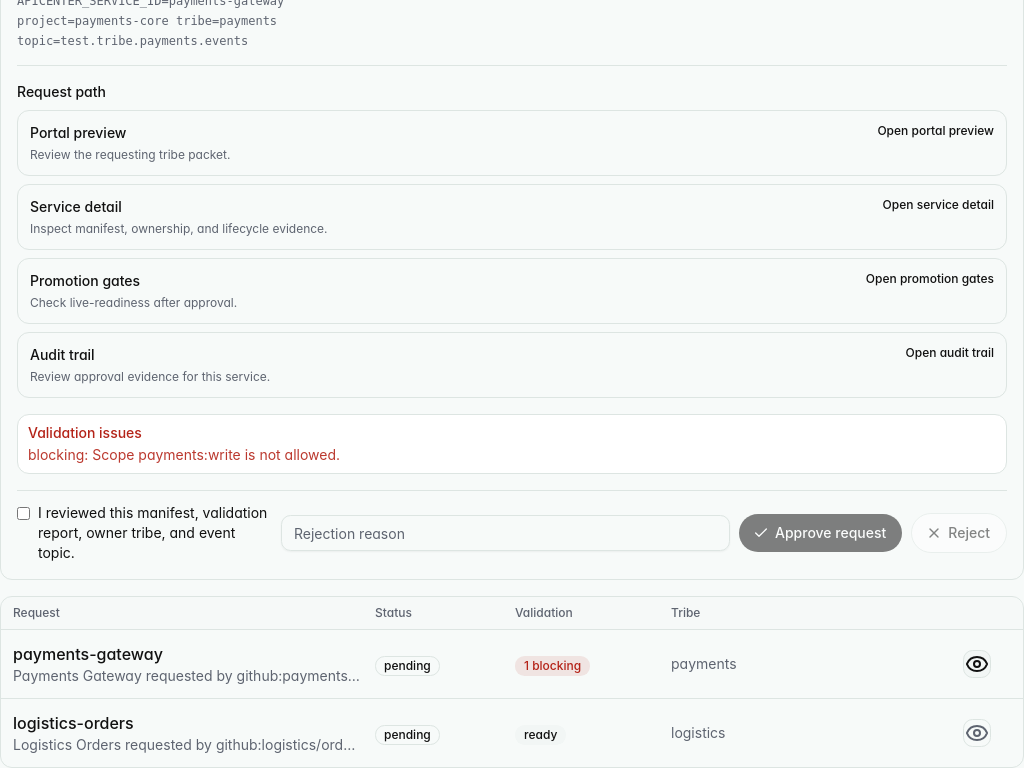
Test: RegistrationRequestsClient › uses one selected request review panel for evidence and actions
(page scrolled)
Expected: the text "payments-gateway" is shown, top-left (13, 644), bottom-right (163, 664)
Expected: the text "project=payments-core tribe=payments" is shown, top-left (17, 14), bottom-right (277, 28)
Click the button named "Inspect registration request for logistics-orders". click: (977,733)
box: top-left (963, 719), bottom-right (991, 747)
(page scrolled)
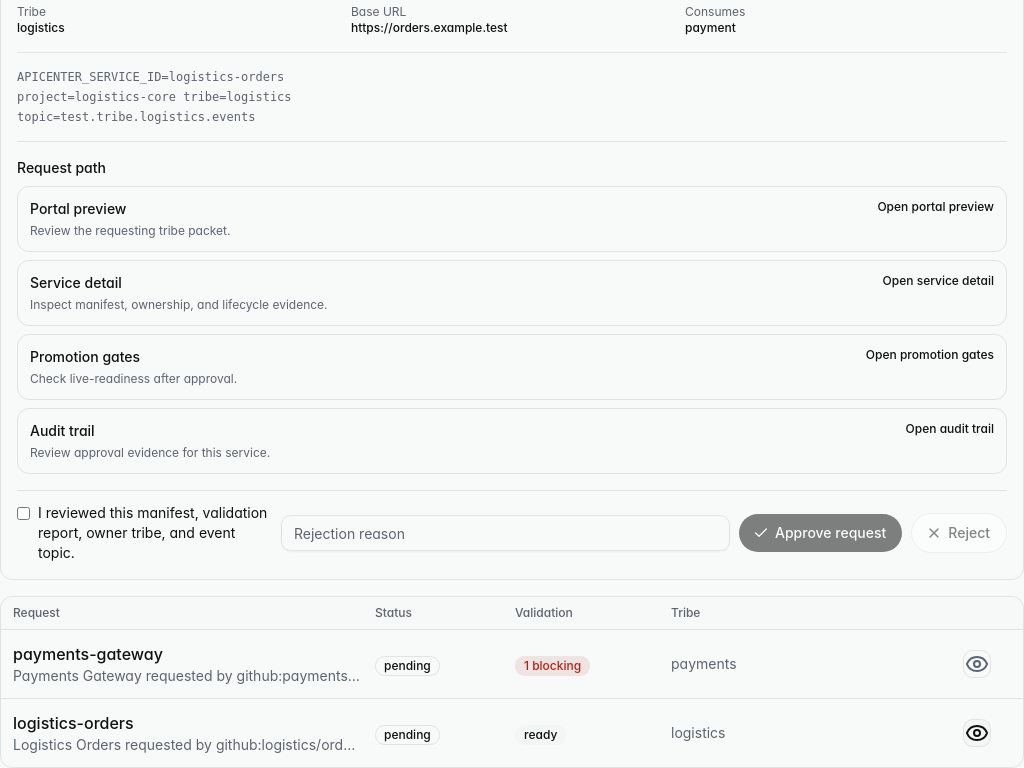
Expected: the text "logistics-orders" is shown, top-left (13, 713), bottom-right (134, 733)
Expected: the text "project=logistics-core tribe=logistics" is shown, top-left (17, 90), bottom-right (292, 104)
